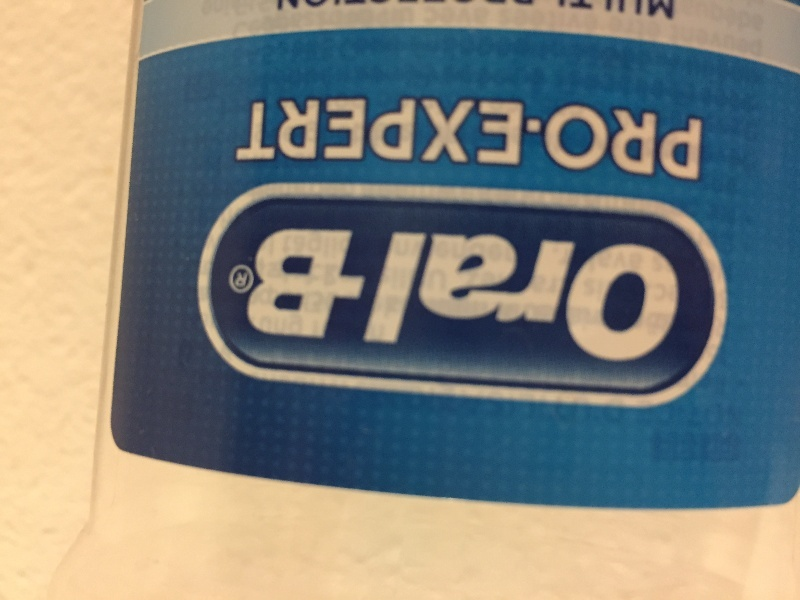text: (273, 223, 288, 371), (289, 223, 304, 371), (305, 223, 320, 371), (321, 223, 336, 371), (337, 223, 352, 371), (353, 223, 368, 371), (369, 223, 384, 371), (385, 223, 400, 371), (401, 223, 416, 371), (417, 223, 432, 371), (433, 223, 448, 371), (449, 223, 464, 371), (465, 223, 480, 371), (481, 223, 496, 371), (497, 223, 512, 371), (513, 223, 528, 371), (529, 223, 544, 371), (545, 223, 560, 371), (561, 223, 576, 371), (577, 223, 592, 371), (593, 223, 608, 371), (609, 223, 624, 371), (625, 223, 640, 371), (641, 223, 656, 371), (657, 223, 672, 371), (673, 223, 687, 371), (241, 98, 256, 180), (257, 98, 272, 180), (273, 98, 288, 180), (289, 98, 304, 180), (305, 98, 320, 180), (321, 98, 336, 180), (337, 98, 352, 180), (353, 98, 368, 180), (369, 98, 384, 180), (385, 98, 400, 180), (401, 98, 416, 180), (417, 98, 432, 180), (433, 98, 448, 180), (449, 98, 464, 180), (465, 98, 480, 180), (481, 98, 496, 180), (497, 98, 512, 180), (513, 98, 528, 180), (529, 98, 544, 180), (545, 98, 560, 180), (561, 98, 576, 180), (577, 98, 592, 180), (593, 98, 608, 180), (609, 98, 624, 180), (625, 98, 640, 180), (641, 98, 656, 180), (657, 98, 672, 180), (673, 98, 688, 180), (264, 223, 272, 371), (689, 98, 702, 180), (235, 98, 240, 180), (273, 1, 288, 21), (289, 1, 304, 21), (305, 1, 320, 21), (321, 1, 336, 21), (337, 1, 352, 21), (353, 1, 368, 21), (369, 1, 384, 21), (385, 1, 400, 21), (401, 1, 416, 21), (417, 1, 432, 21), (433, 1, 448, 21), (449, 1, 464, 21), (465, 1, 480, 21), (481, 1, 496, 21), (497, 1, 512, 21), (513, 1, 528, 21), (529, 1, 544, 21), (545, 1, 560, 21), (561, 1, 576, 21), (577, 1, 592, 21), (593, 1, 608, 21), (609, 1, 624, 21), (625, 1, 640, 21), (641, 1, 656, 21), (657, 1, 672, 21), (241, 270, 250, 291), (673, 1, 679, 21), (237, 270, 240, 291), (271, 1, 272, 21)
